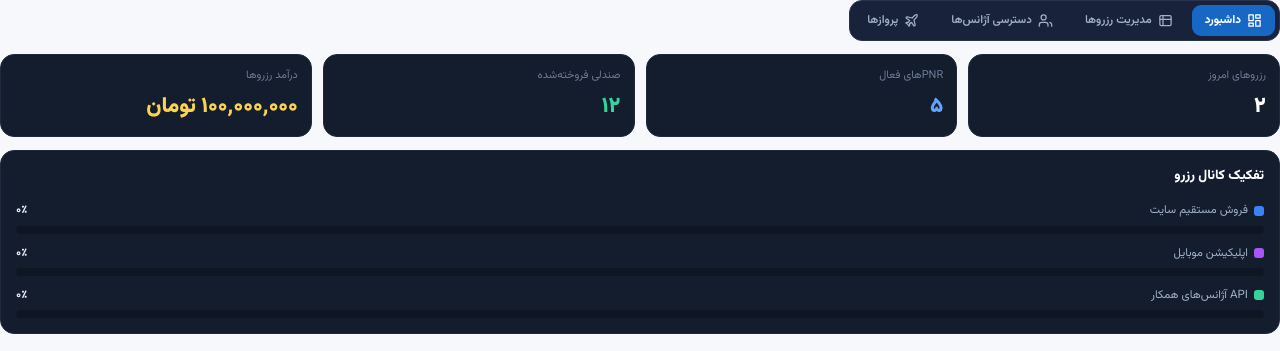
Test case: ReservationPage › BOARD_CHAIR loads agency access from the reservation API
Click the button "دسترسی آژانس‌ها": (1002, 21) [938,5,1066,36]
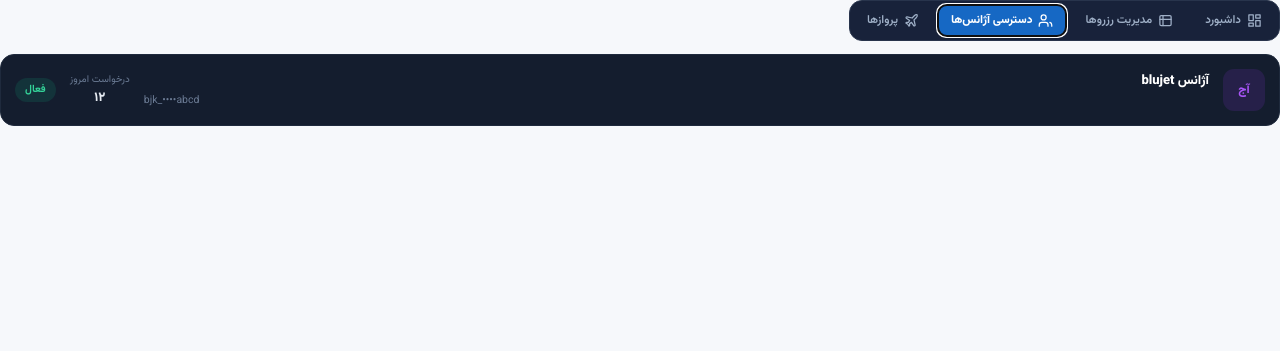
Now the text "آژانس blujet" is shown, box [1141,71,1209,91]
Now the text "bjk_••••abcd" is shown, box [144,92,200,109]
